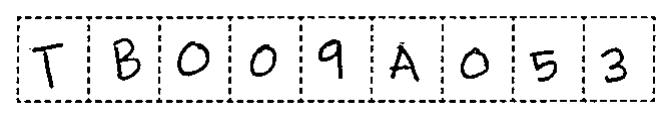0: (173, 37, 214, 82), (245, 39, 282, 79), (458, 44, 494, 84)
3: (595, 42, 632, 87)
5: (527, 45, 564, 88)
9: (314, 34, 351, 85)
A: (382, 38, 428, 89)
B: (105, 33, 149, 88)
T: (28, 39, 68, 94)
